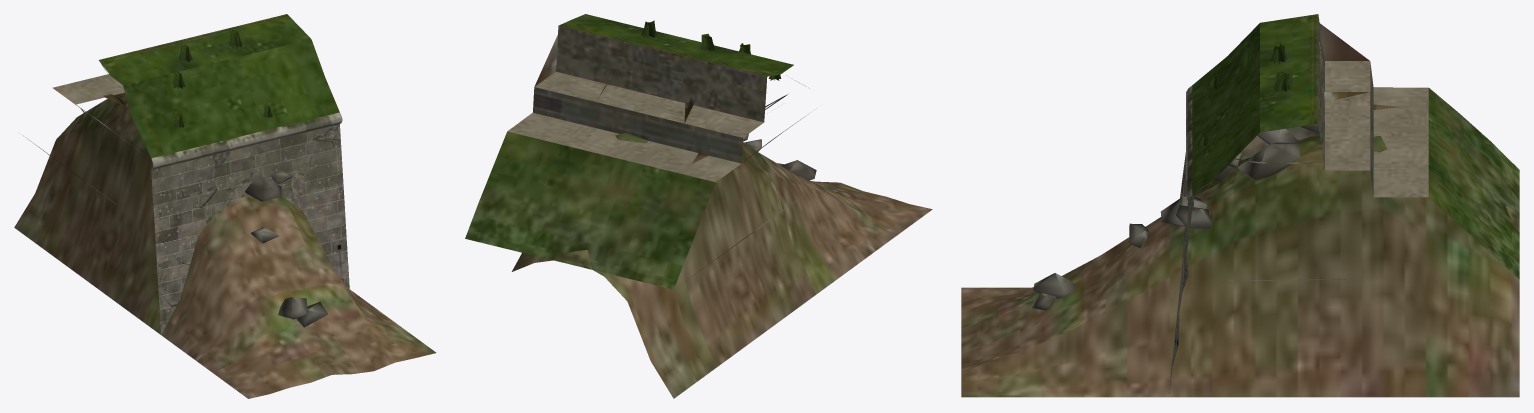
File: starfort_ravelin_wall_live.glb
The picture shows the model from 3 angles, left to right: view 1: azimuth 30°, elevation 25°; view 2: azimuth 150°, elevation 25°; view 3: azimuth 270°, elevation 25°; orthographic projection. The views are drawn at different scales.
Visible parts, largest first — view 1: breached, intact, cracked; view 2: breached, intact, cracked, endcap_b; view 3: breached, cracked, intact, endcap_a.
Boxes of the visible parts, x1,y1,x2,y2 form: breached: (14, 15, 436, 398); intact: (52, 32, 347, 323); cracked: (53, 14, 339, 311); breached: (465, 14, 932, 398); intact: (507, 19, 780, 282); cracked: (493, 19, 793, 271); endcap_b: (527, 26, 559, 116); breached: (961, 15, 1519, 397); cracked: (1176, 14, 1519, 341); intact: (1169, 14, 1519, 393); endcap_a: (1186, 23, 1392, 91).
Size of what is drawn, in the model's own units: 4.1 by 4.9 by 8.6.
2 materials, 2 textured.
